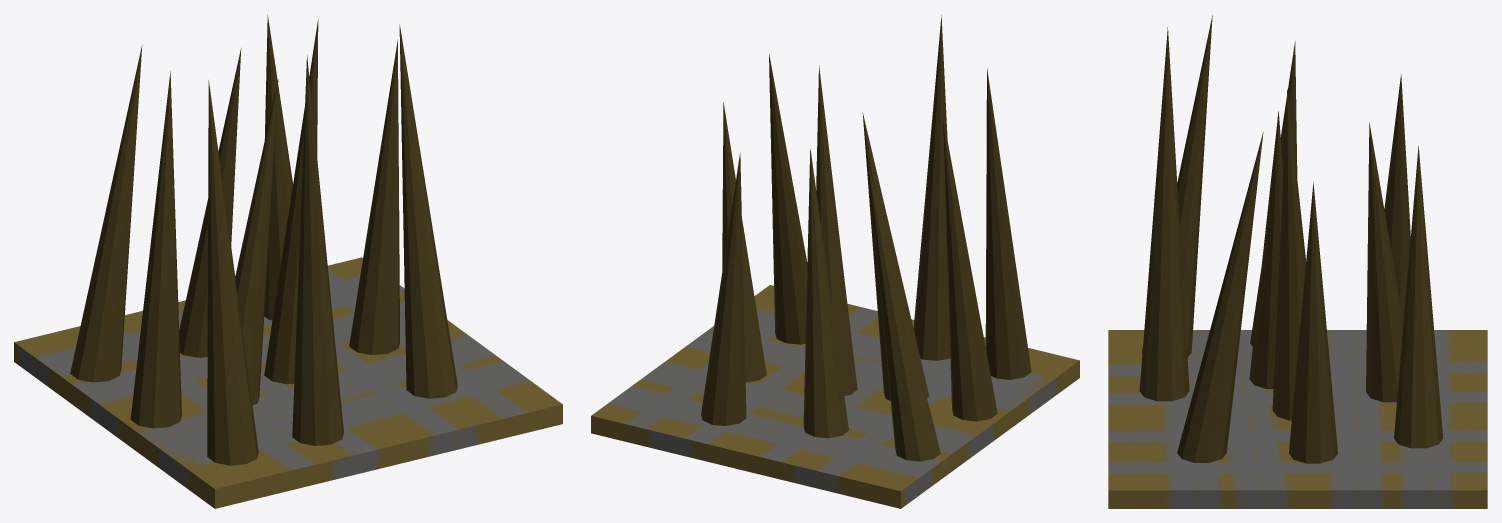
The model's file is blockSpikes.obj.
The picture shows the model from 3 angles, left to right: view 1: azimuth 30°, elevation 25°; view 2: azimuth 150°, elevation 25°; view 3: azimuth 270°, elevation 25°; orthographic projection. The views are drawn at different scales.
Parts seen in each view (by area): view 1: blockSpikes; view 2: blockSpikes; view 3: blockSpikes.
Part boxes in pixels (box(x1,y1,x2,y2)): blockSpikes: box(14, 15, 562, 508); blockSpikes: box(591, 15, 1079, 508); blockSpikes: box(1108, 15, 1487, 508).
Bounding box in the file's own units: 1 × 1.1 × 1.
1 material, 1 textured.
